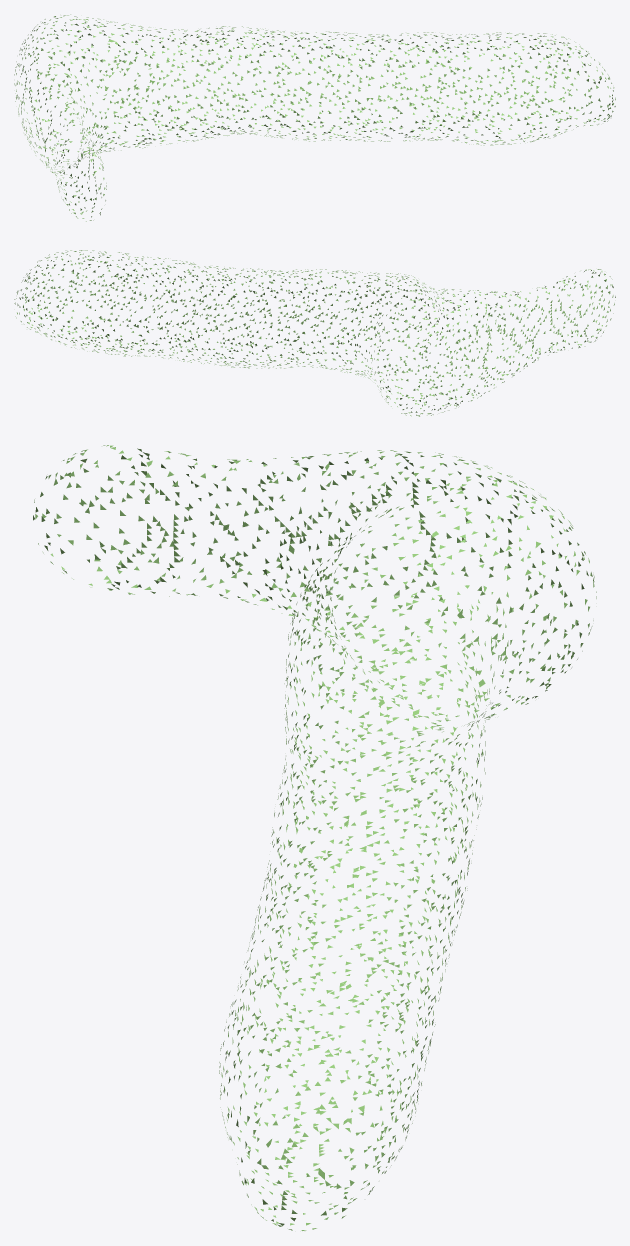
File: morph_014.glb
The picture shows the model from 3 angles, top to bottom: view 1: azimuth 30°, elevation 25°; view 2: azimuth 150°, elevation 25°; view 3: azimuth 270°, elevation 25°; orthographic projection. The views are drawn at different scales.
Bounding box in the file's own units: 139 × 42.21 × 63.74.
